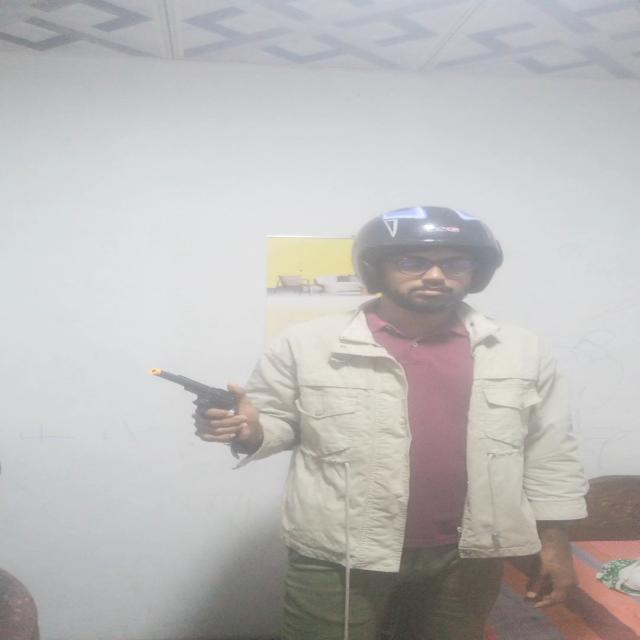Gun_Holder: (144, 367, 266, 448)
Helmet_Wearer: (324, 204, 526, 318)
Jacket_Wearer: (241, 297, 600, 564)
Person: (190, 192, 588, 640)
